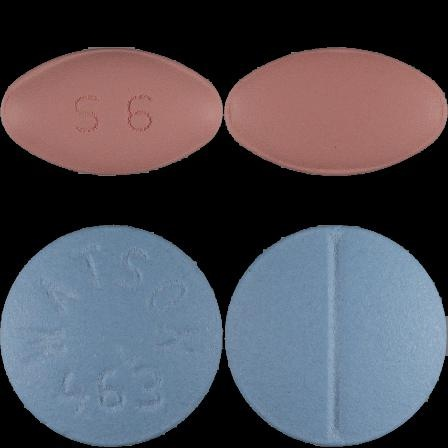33261-542: (0, 0, 224, 224)
